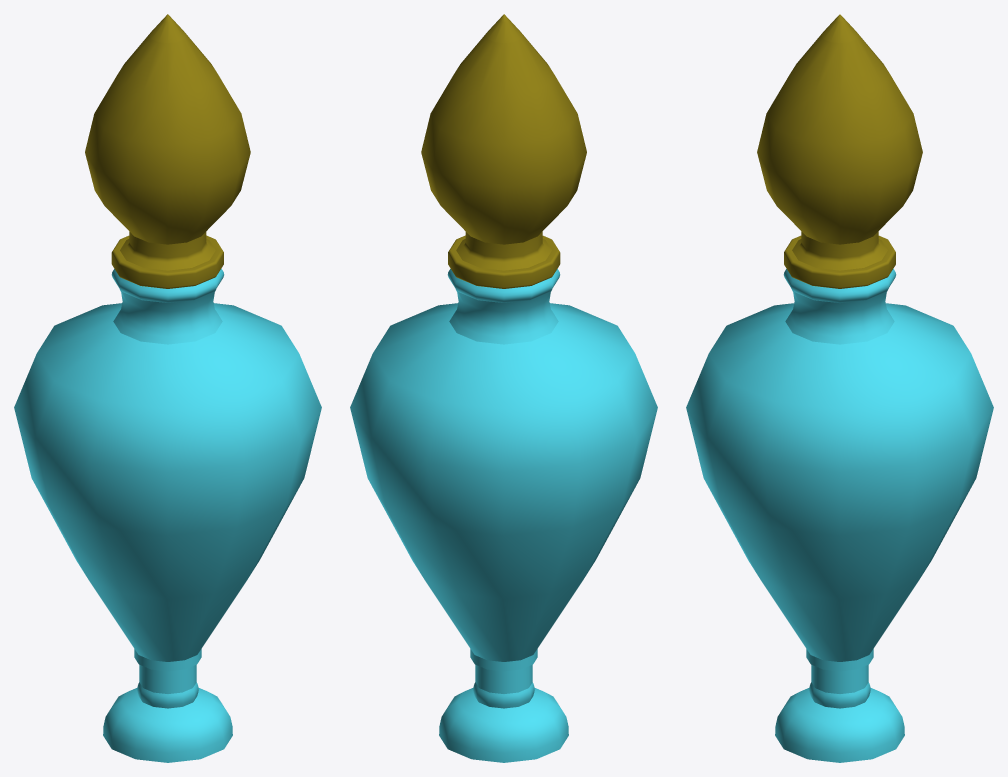
Rendered from potion01.FBX.
3 renders of one model, left to right at view 1: azimuth 30°, elevation 25°; view 2: azimuth 150°, elevation 25°; view 3: azimuth 270°, elevation 25°, orthographic.
Visible parts, largest first — view 1: potion_01glass; view 2: potion_01glass; view 3: potion_01glass.
Part boxes in pixels (x1,y1,x2,y2): potion_01glass: [14, 14, 321, 762]; potion_01glass: [350, 14, 657, 762]; potion_01glass: [686, 14, 993, 762].
Size of the model in its own units: 22.1 by 57.15 by 22.1.
